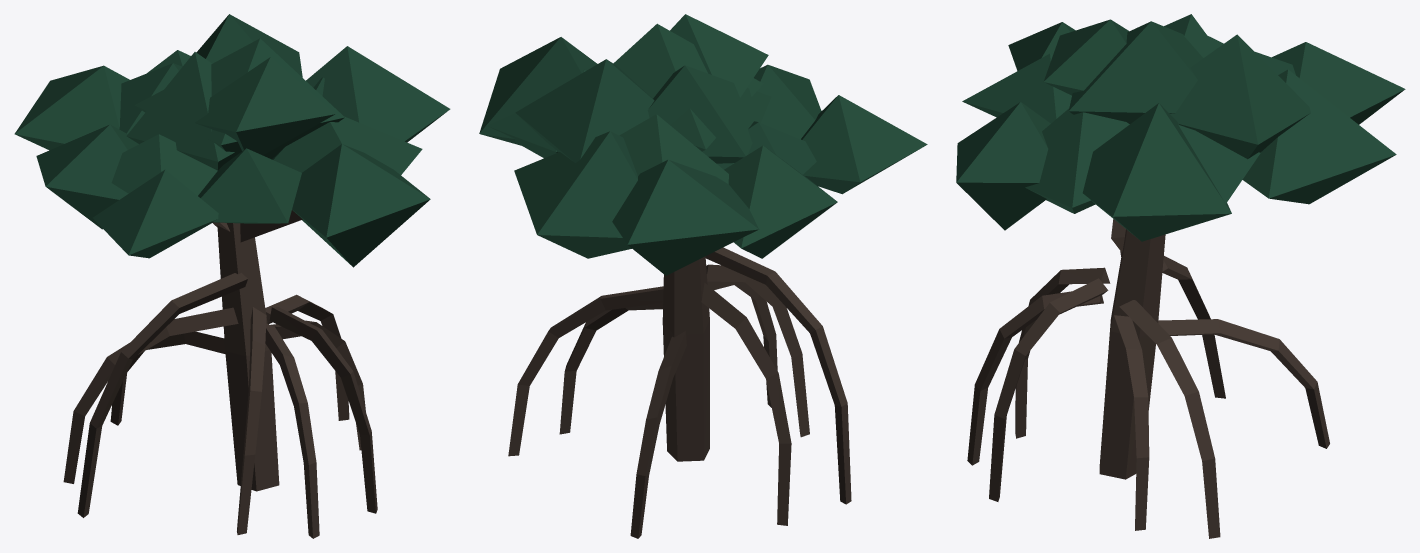
File: mangrove.glb
3 renders of one model, left to right at view 1: azimuth 30°, elevation 25°; view 2: azimuth 150°, elevation 25°; view 3: azimuth 270°, elevation 25°, orthographic. The views are drawn at different scales.
Parts seen in each view (by area): view 1: mangrove; view 2: mangrove; view 3: mangrove.
Boxes of the visible parts, x1,y1,x2,y2 form: mangrove: [14, 14, 450, 538]; mangrove: [479, 14, 927, 538]; mangrove: [956, 14, 1405, 538].
Size of the model in its own units: 3.67 by 4.06 by 3.62.
